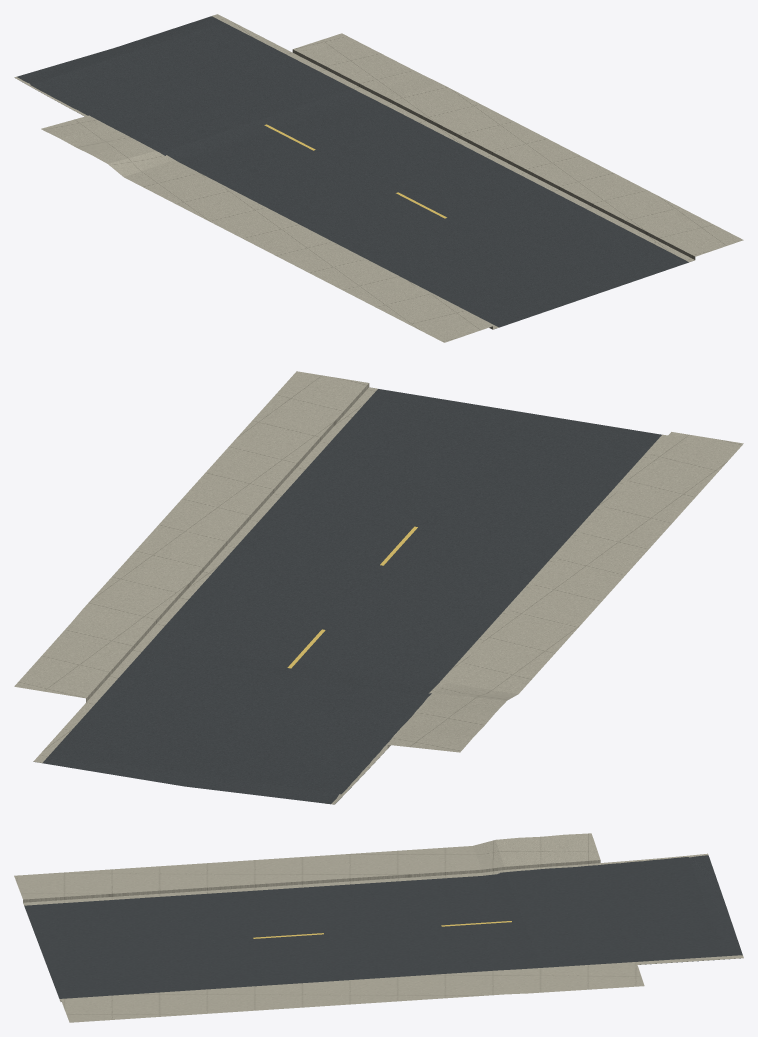
3 renders of one model, top to bottom at view 1: azimuth 30°, elevation 25°; view 2: azimuth 150°, elevation 25°; view 3: azimuth 270°, elevation 25°, orthographic. The views are drawn at different scales.
Parts seen in each view (by area): view 1: Carriageway, Clipped sidewalks with lowered crossing approaches, Concrete drainage margins, Raised curb faces; view 2: Carriageway, Clipped sidewalks with lowered crossing approaches, Concrete drainage margins, Raised curb faces; view 3: Carriageway, Clipped sidewalks with lowered crossing approaches, Concrete drainage margins, Raised curb faces.
Boxes of the visible parts, bbox=[...] form: Carriageway: bbox=[15, 16, 688, 328]; Clipped sidewalks with lowered crossing approaches: bbox=[41, 33, 743, 342]; Concrete drainage margins: bbox=[14, 14, 694, 329]; Raised curb faces: bbox=[292, 49, 695, 329]; Carriageway: bbox=[33, 389, 661, 804]; Clipped sidewalks with lowered crossing approaches: bbox=[14, 371, 743, 752]; Concrete drainage margins: bbox=[33, 387, 667, 804]; Raised curb faces: bbox=[86, 383, 390, 748]; Carriageway: bbox=[24, 855, 742, 998]; Clipped sidewalks with lowered crossing approaches: bbox=[14, 833, 644, 1022]; Concrete drainage margins: bbox=[23, 853, 743, 1001]; Raised curb faces: bbox=[23, 860, 600, 1001].
Size of the model in its own units: 18.49 by 0.4349 by 30.66.
